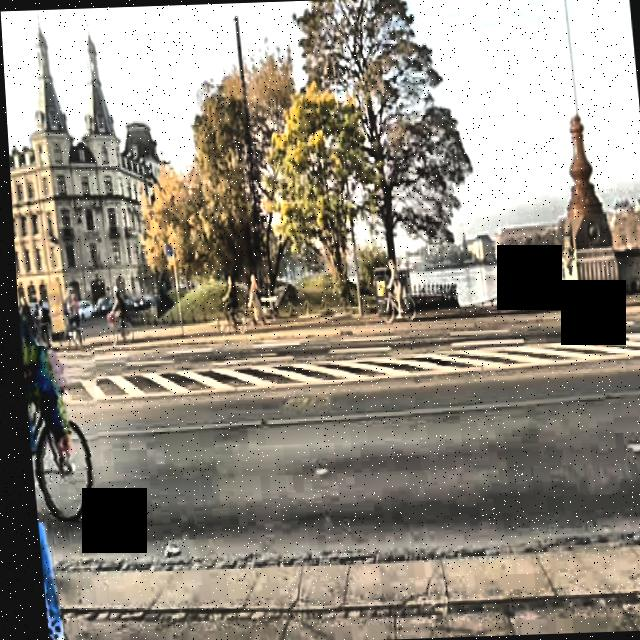bicycle: (17, 343, 100, 522)
